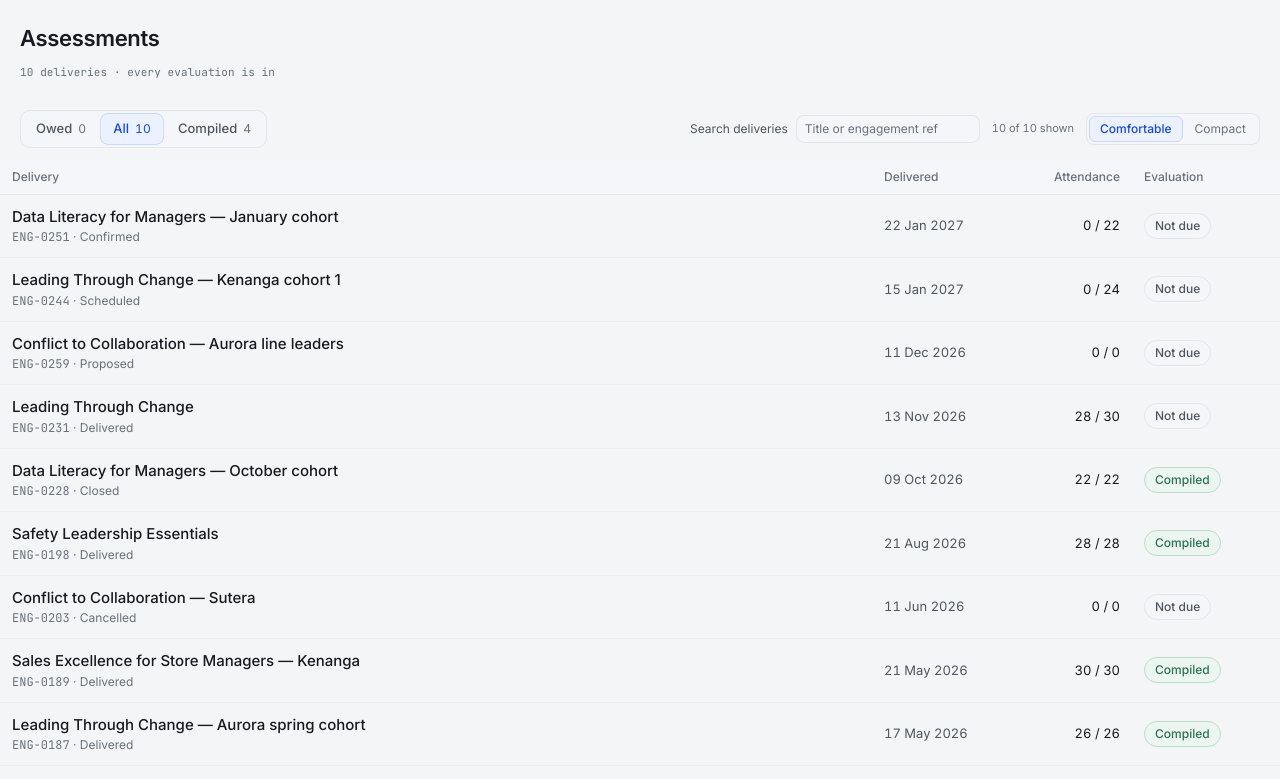
the assessments register › narrows by search and says so when nothing matches
Expected: the tab "Owed 0" is shown, [23,112,99,144]
Type "no such delivery" into the search field labelled "Search deliveries" at (888, 128), box [796,114,980,142]
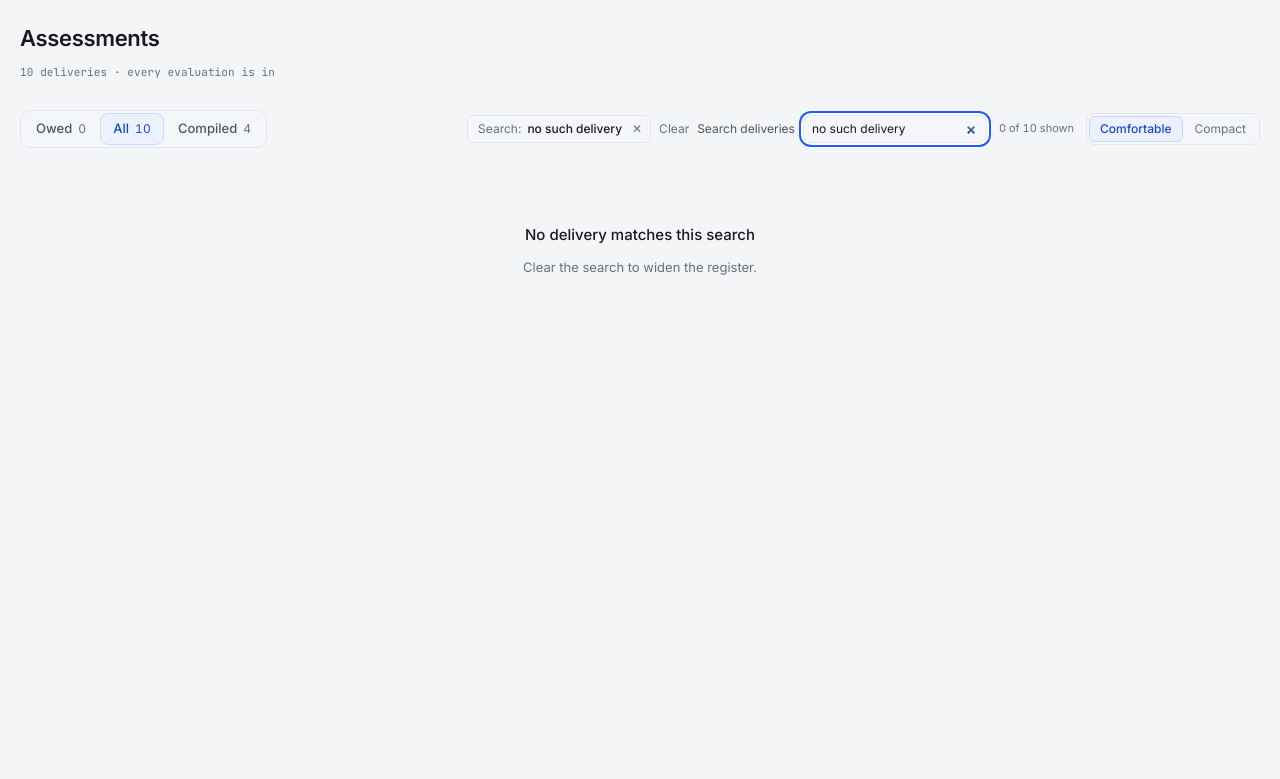
Now the text "No delivery matches this search" is shown, box [525,224,755,246]
